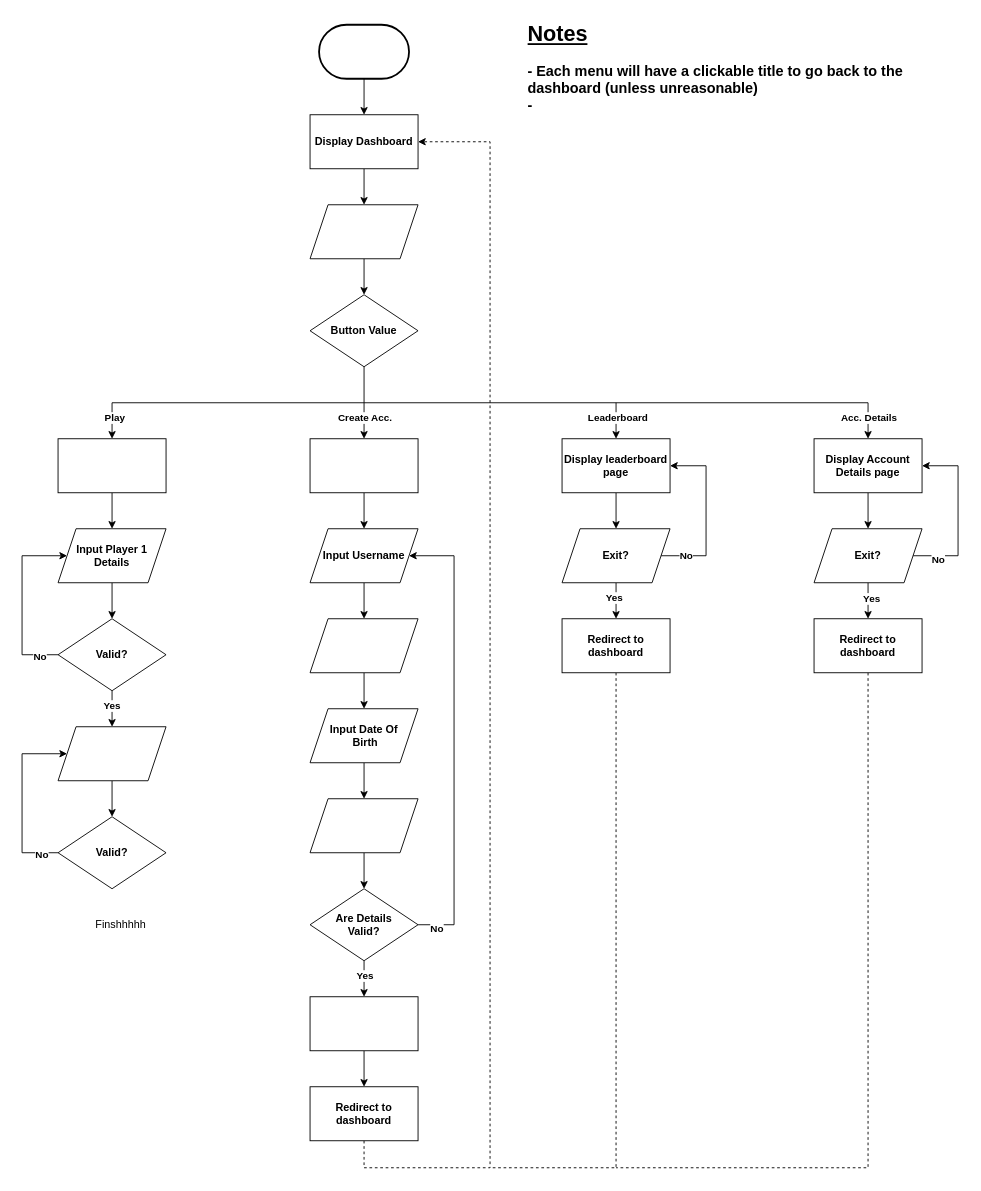
The diagram is 981 pixels wide and 1191 high, and some of its shapes have lost their labels. Here are the shapes that lost their labels. From the top down, the centre of each, then its label:
the point at 364,51: Start
the point at 363,231: User clicks a button on the dashboard
the point at 111,465: Display game page
the point at 363,465: Display Create Account Page
the point at 363,645: Input Password
the point at 111,753: Input Player 2 Details
the point at 363,825: Submit
the point at 363,1023: Save Data to user JSON
